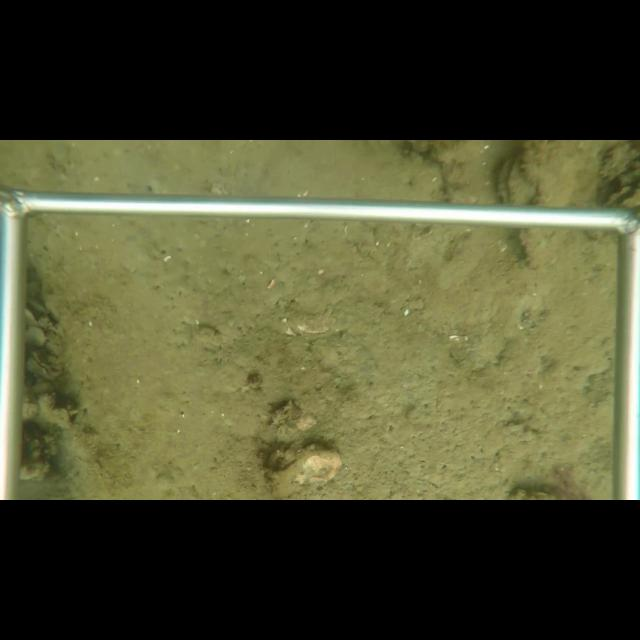Oyster-Closed: (262, 440, 344, 499)
Oyster-Open: (493, 153, 539, 205), (27, 348, 65, 381), (600, 185, 640, 209)
